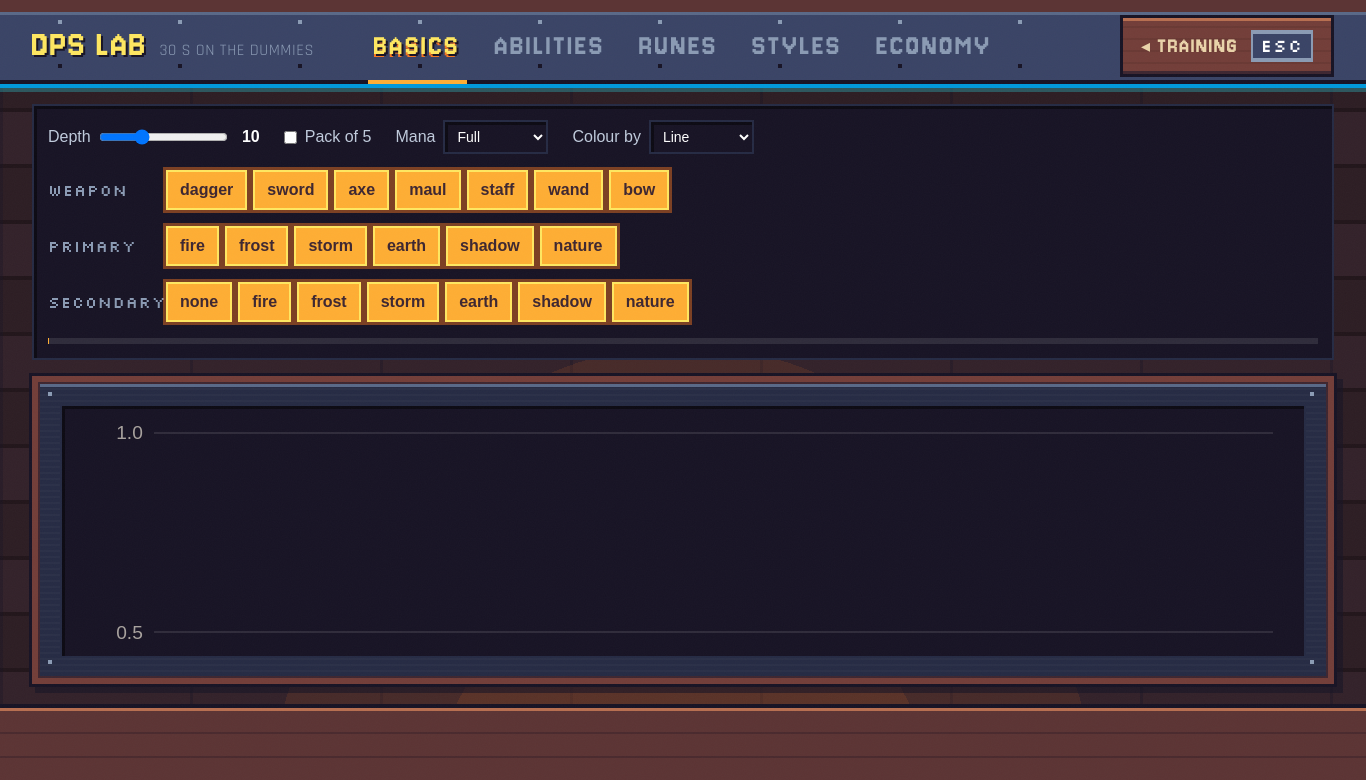
DelveLab › an unaffordable ability sits last, as can't afford
This screenshot has width=1366, height=780.
What coordinates should you click on to do the following:
click the tab with test id "lab-tab-ability"
I would click on:
 (550, 48)
Its box is [489,12,611,84].
(page scrolled)
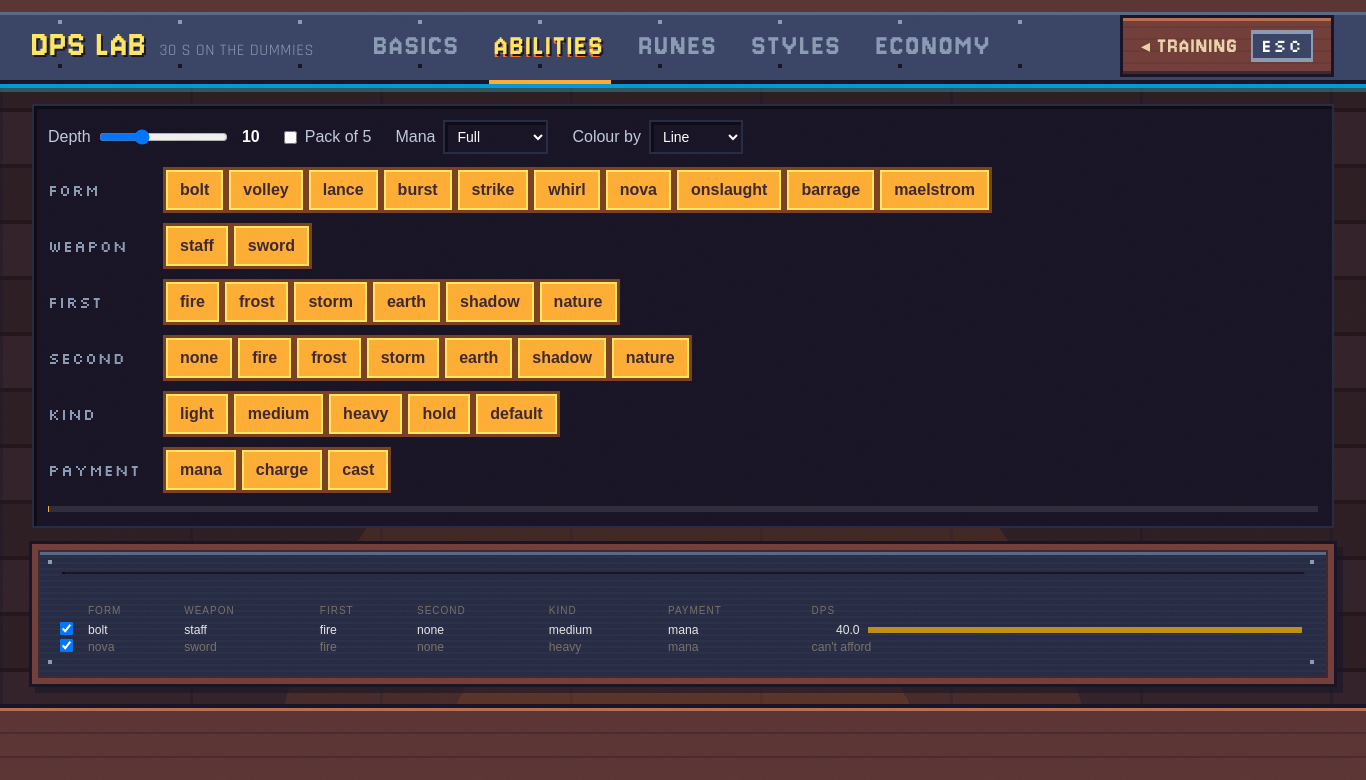
Now the row with test id "lab-row" shows "can't afford", box [812,640,871,654]
